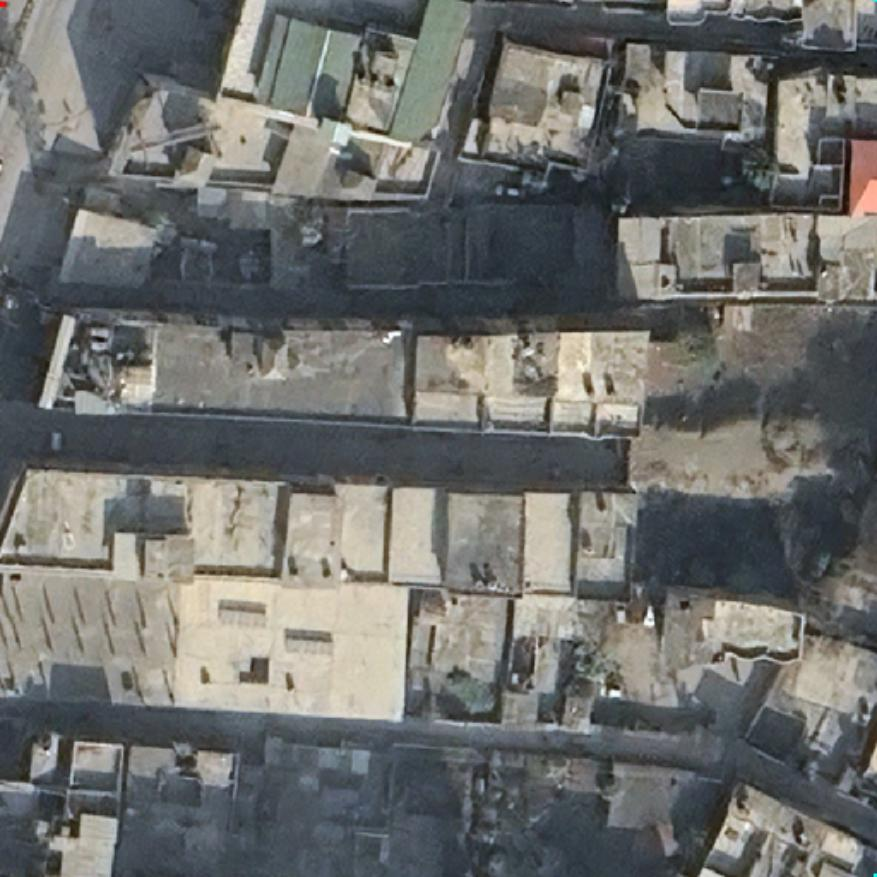Solarpanel: (214, 602, 270, 632), (279, 631, 337, 659)
